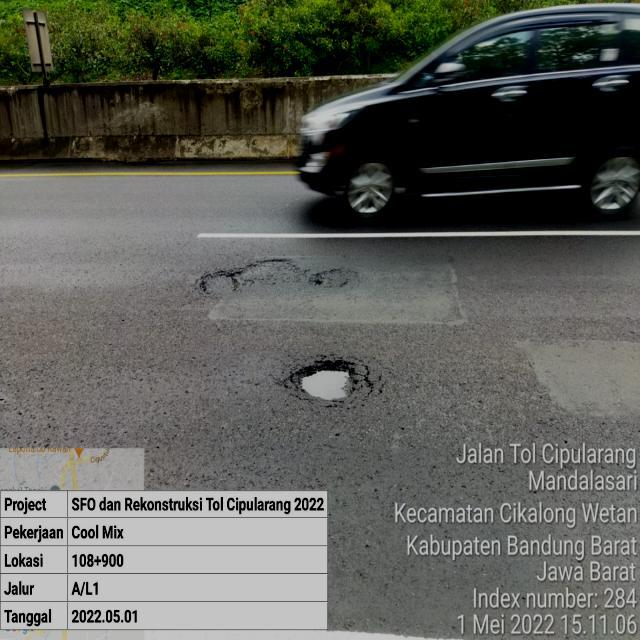Buraco: (190, 257, 310, 298), (283, 355, 379, 405), (306, 266, 361, 290)
